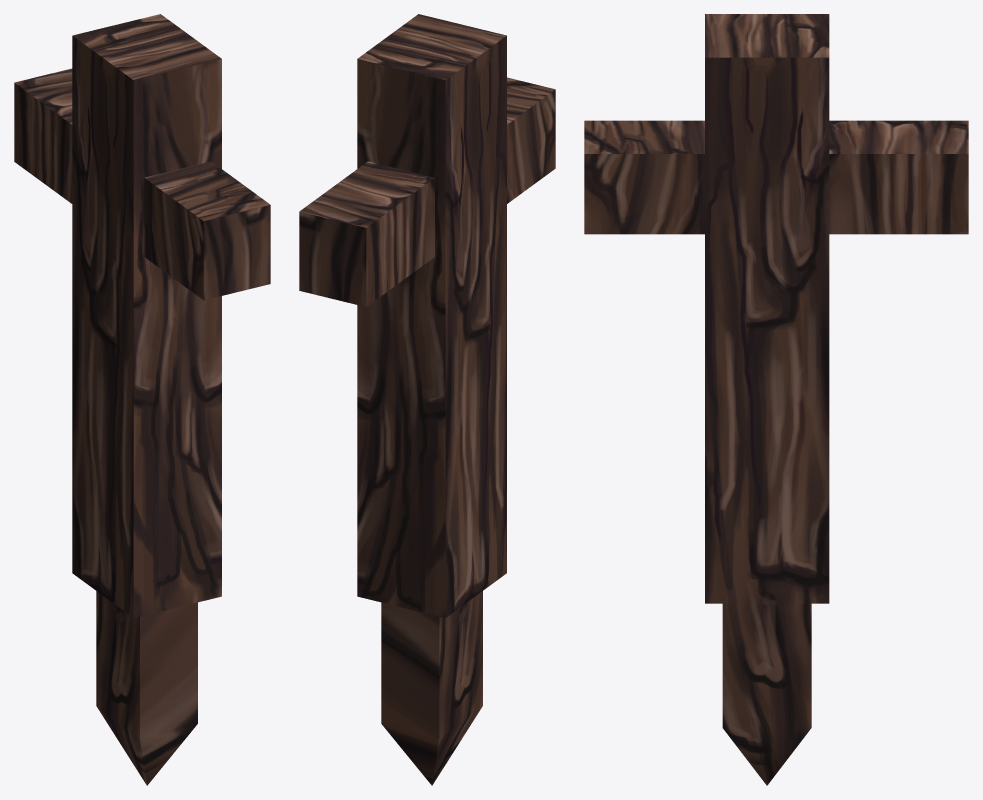
File: Pieux.fbx
3 renders of one model, left to right at view 1: azimuth 30°, elevation 25°; view 2: azimuth 150°, elevation 25°; view 3: azimuth 270°, elevation 25°, orthographic.
Visible parts, largest first — view 1: pCube12; view 2: pCube12; view 3: pCube12.
Part boxes in pixels (x1,y1,x2,y2): pCube12: (14,14,270,785); pCube12: (299,14,555,785); pCube12: (584,14,968,785).
Bounding box in the file's own units: 2.91 × 23.3 × 10.83.
